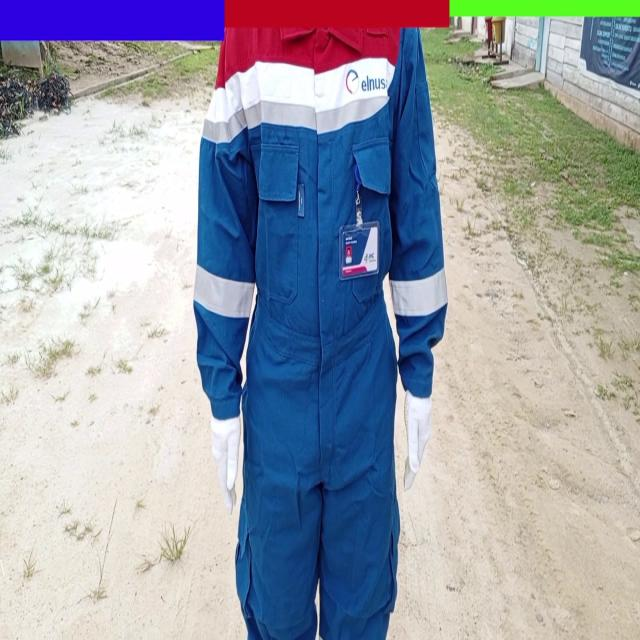Gloves: (209, 414, 241, 512), (401, 389, 432, 486)
Overall Suit: (192, 44, 445, 640)
